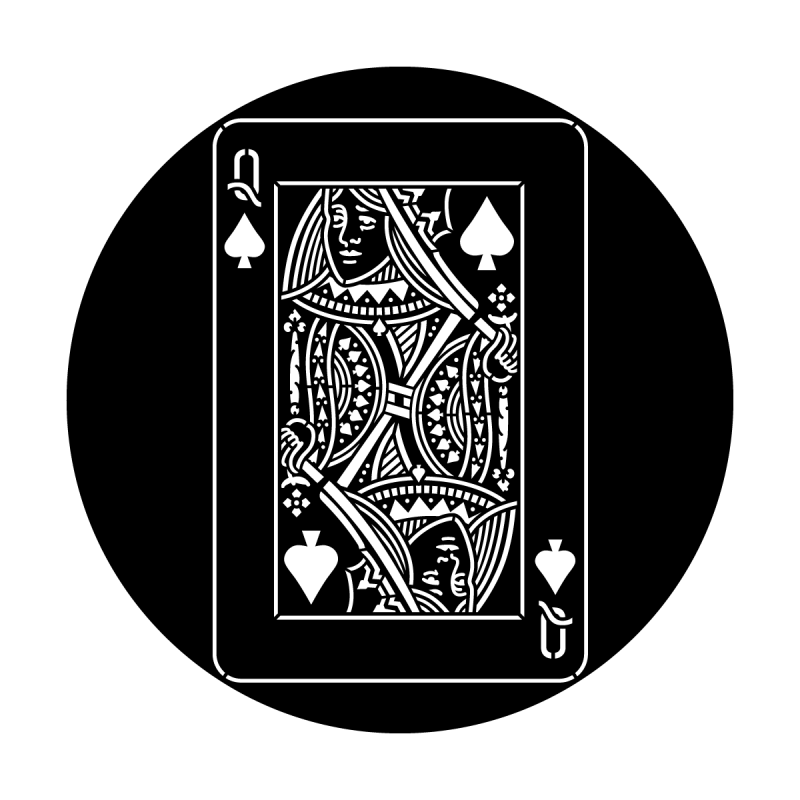queen of spades: (214, 122, 591, 680)
